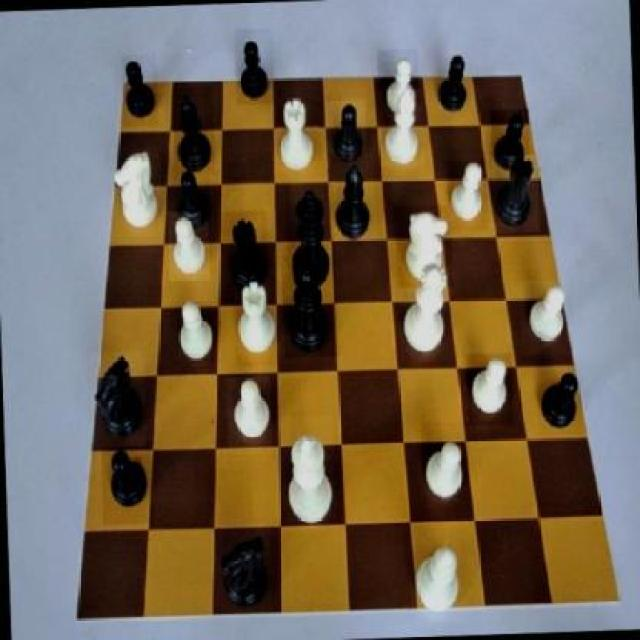bishop: (329, 152, 376, 242), (172, 86, 215, 176)
black-bishop: (285, 185, 337, 297)
black-king: (209, 526, 272, 616), (89, 350, 146, 448)
black-knight: (100, 440, 153, 525), (536, 361, 582, 437), (234, 28, 274, 105), (324, 98, 368, 168), (434, 48, 474, 118), (491, 110, 531, 176), (122, 54, 158, 127), (174, 164, 211, 232)
black-pawn: (282, 254, 339, 358)
black-queen: (220, 210, 270, 304), (492, 154, 540, 233)
black-rook: (411, 540, 463, 625), (378, 88, 426, 167)
white-bishop: (280, 415, 337, 531)
white-king: (109, 146, 163, 239), (395, 205, 453, 288)
white-knight: (420, 422, 471, 516), (518, 278, 571, 356), (466, 352, 514, 426), (224, 377, 272, 449), (446, 160, 489, 232), (168, 210, 210, 282), (169, 300, 216, 364), (377, 50, 419, 119)
white-pawn: (397, 263, 454, 364)
white-queen: (234, 274, 280, 366), (275, 91, 320, 180)
